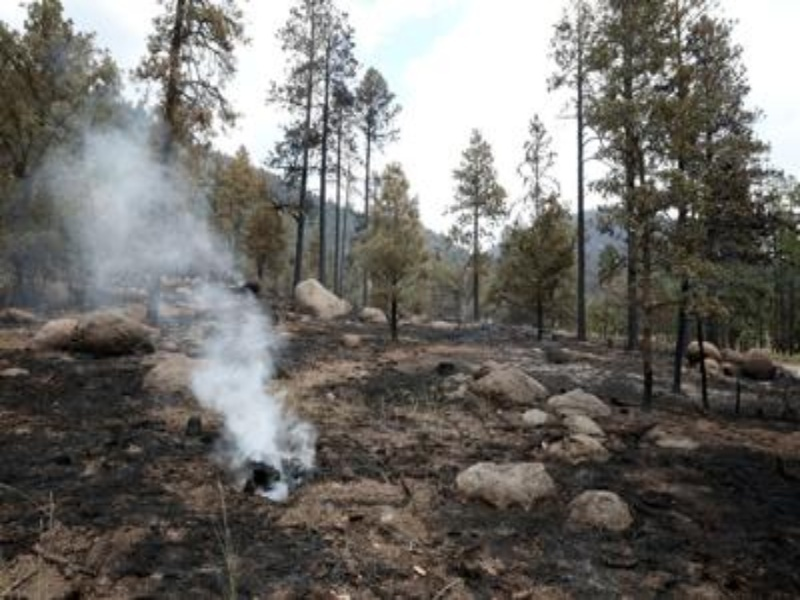smoke: (63, 134, 284, 462)
